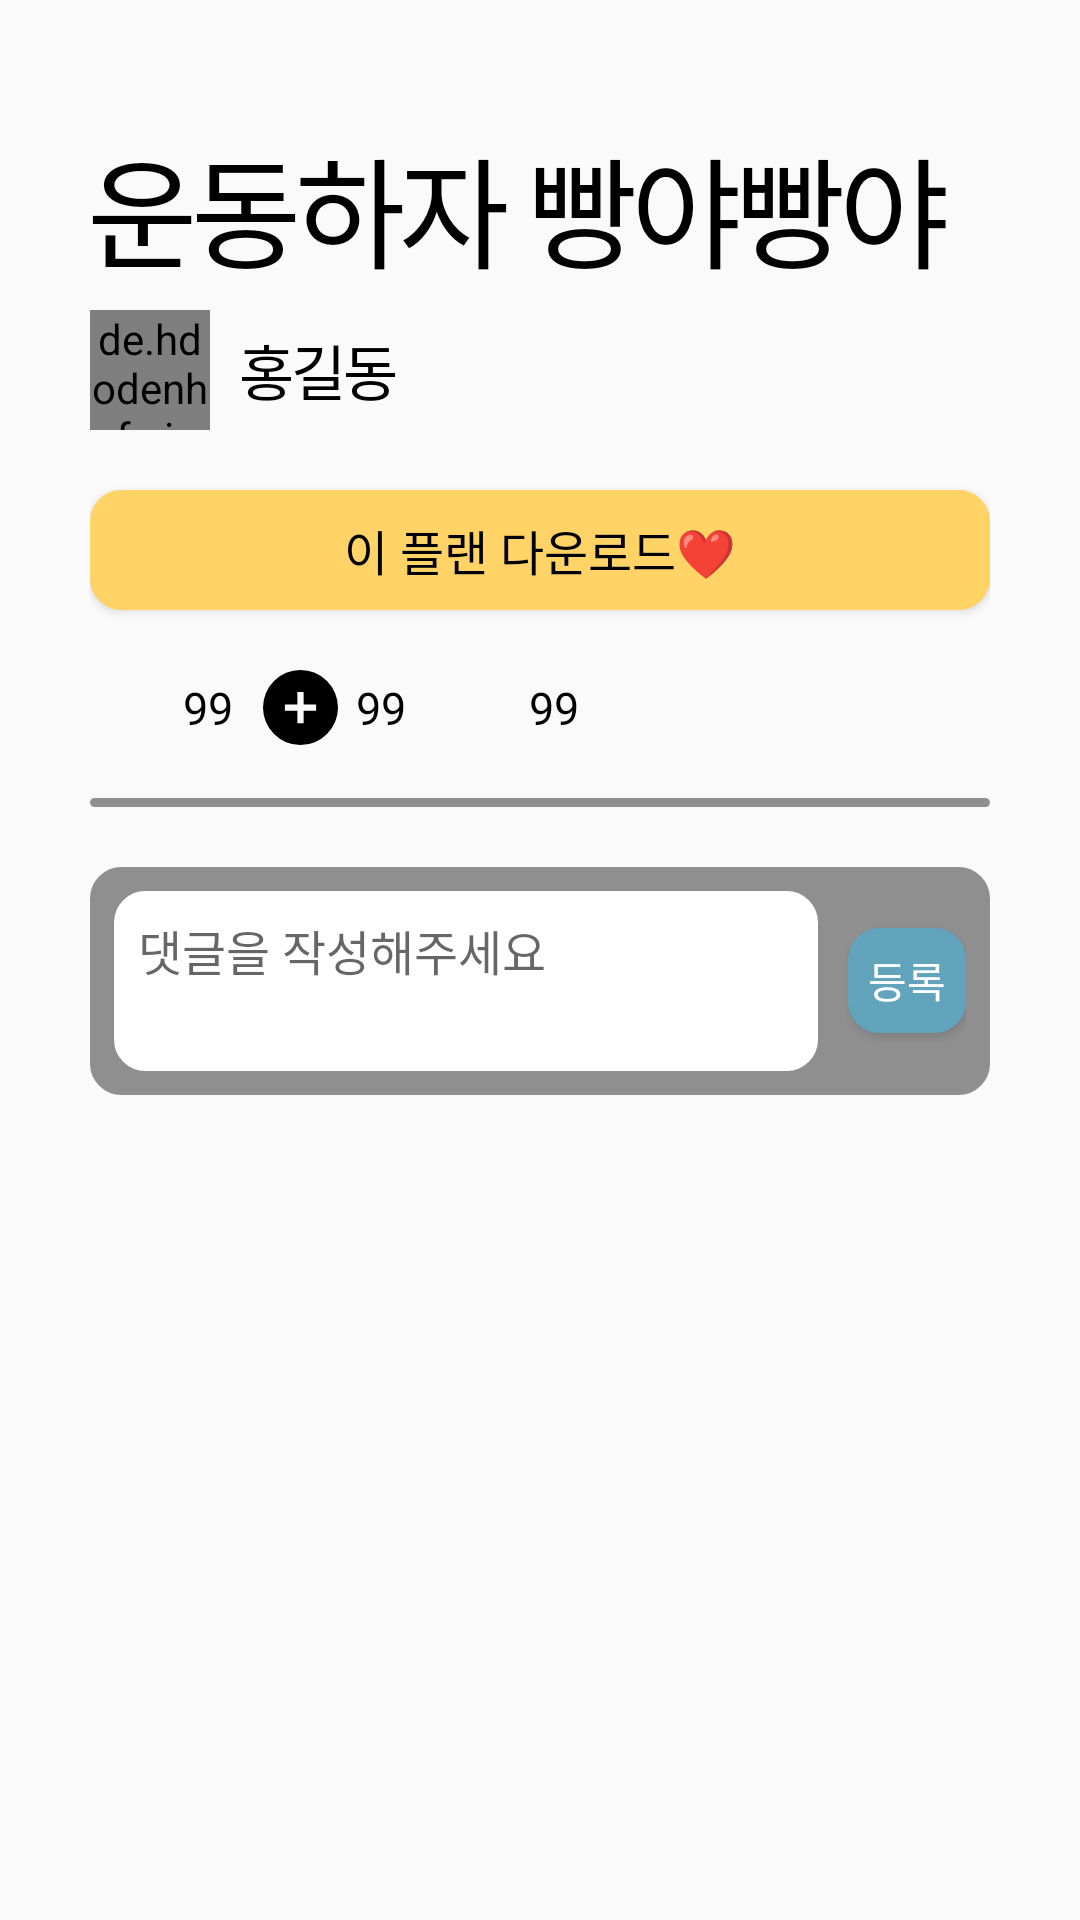

Point at icon controls on the screen. Image size 1080w x 1920h, points as (x=x, y=y).
add: (x=300, y=707)
